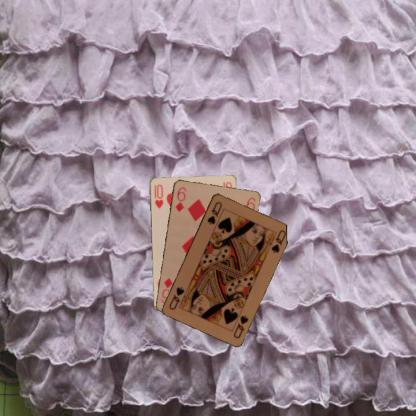10h: (151, 182, 164, 209)
6d: (173, 184, 187, 214)
Qs: (231, 313, 250, 339), (205, 199, 223, 226)
